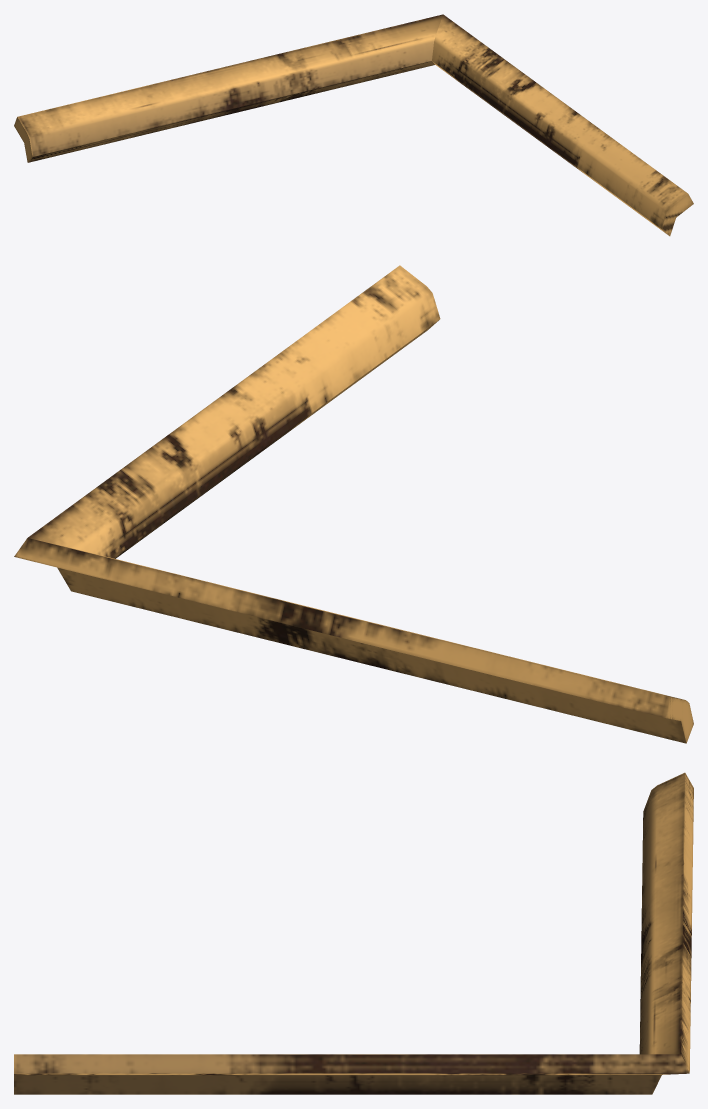
The model's file is roof_top_adornment_C.fbx.
3 views of the same model, one above another, from view 1: azimuth 30°, elevation 25°; view 2: azimuth 150°, elevation 25°; view 3: azimuth 270°, elevation 25° (orthographic). The views are drawn at different scales.
Parts seen in each view (by area): view 1: roof_top_adornment_C; view 2: roof_top_adornment_C; view 3: roof_top_adornment_C.
Boxes of the visible parts, x1,y1,x2,y2 form: roof_top_adornment_C: (14,14,693,236); roof_top_adornment_C: (14,265,693,743); roof_top_adornment_C: (14,772,693,1094).
Bounding box in the file's own units: 311 × 26.55 × 313.
Materials: 1 (1 with a texture image).
